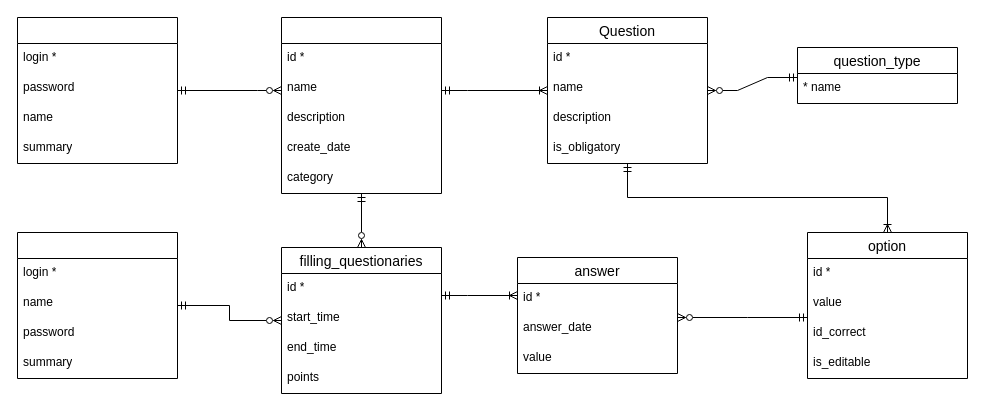
Image size: 985x414. Some labels were removed from this diagram. The shapes that lost their labels are listed below. From the top down, each one's box as (x1, y1, x2, y2) in pixels, then its label:
(16, 16, 178, 164): creator
(280, 16, 442, 194): questionary
(16, 232, 178, 378): user
